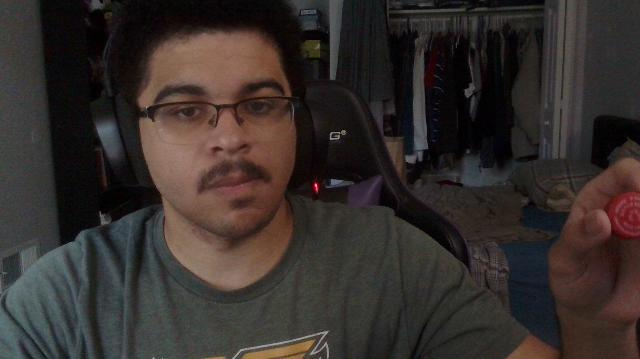cap: (604, 192, 640, 238)
